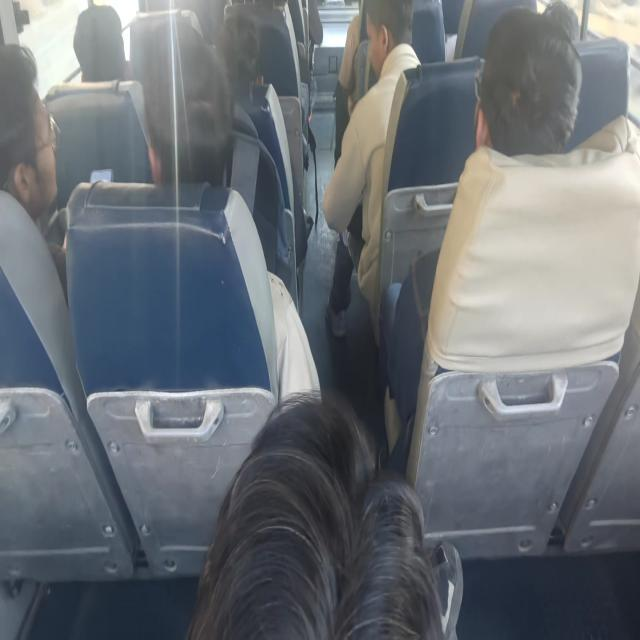person: (196, 384, 447, 640), (473, 0, 575, 173), (141, 30, 236, 188), (0, 43, 60, 205), (68, 0, 133, 83), (214, 6, 272, 97), (350, 0, 417, 75), (541, 0, 597, 50)
